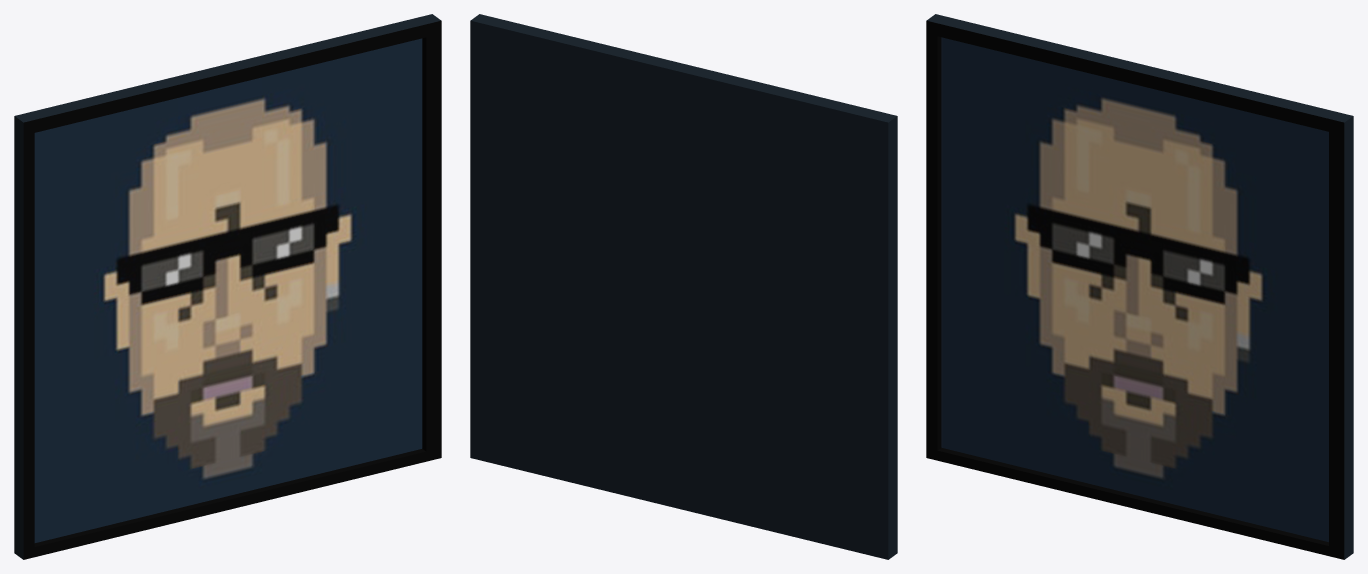
The model's file is stenPicture.fbx.
3 renders of one model, left to right at view 1: azimuth 30°, elevation 25°; view 2: azimuth 150°, elevation 25°; view 3: azimuth 330°, elevation 25°, orthographic.
Parts seen in each view (by area): view 1: pCube1; view 2: pCube1; view 3: pCube1.
Boxes of the visible parts, x1,y1,x2,y2 form: pCube1: [14, 14, 441, 559]; pCube1: [470, 14, 897, 559]; pCube1: [926, 14, 1353, 559].
Bounding box in the file's own units: 15.2 × 15.2 × 0.5725.
